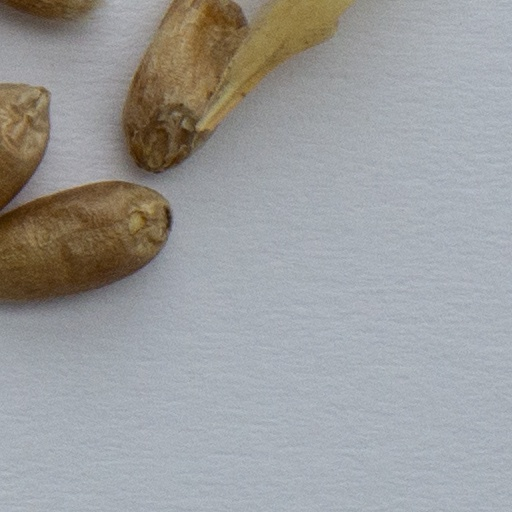Peel-poly: (198, 0, 351, 136)
